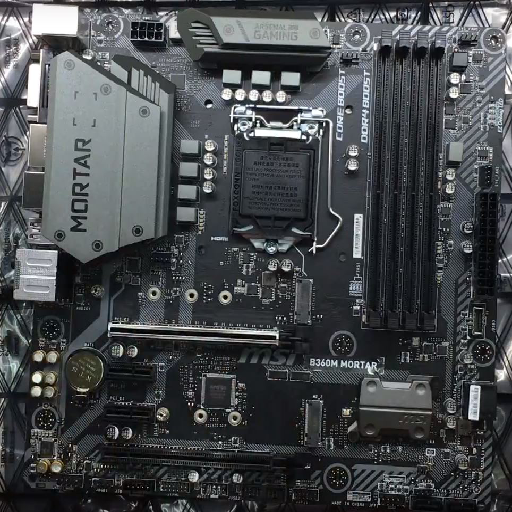CPU: (227, 122, 317, 253)
GPU: (106, 318, 311, 357), (98, 447, 321, 478)
MOTHERBOARD: (14, 5, 504, 512)
RAM: (367, 30, 447, 339)
SSD: (298, 393, 326, 450), (288, 277, 316, 324)
